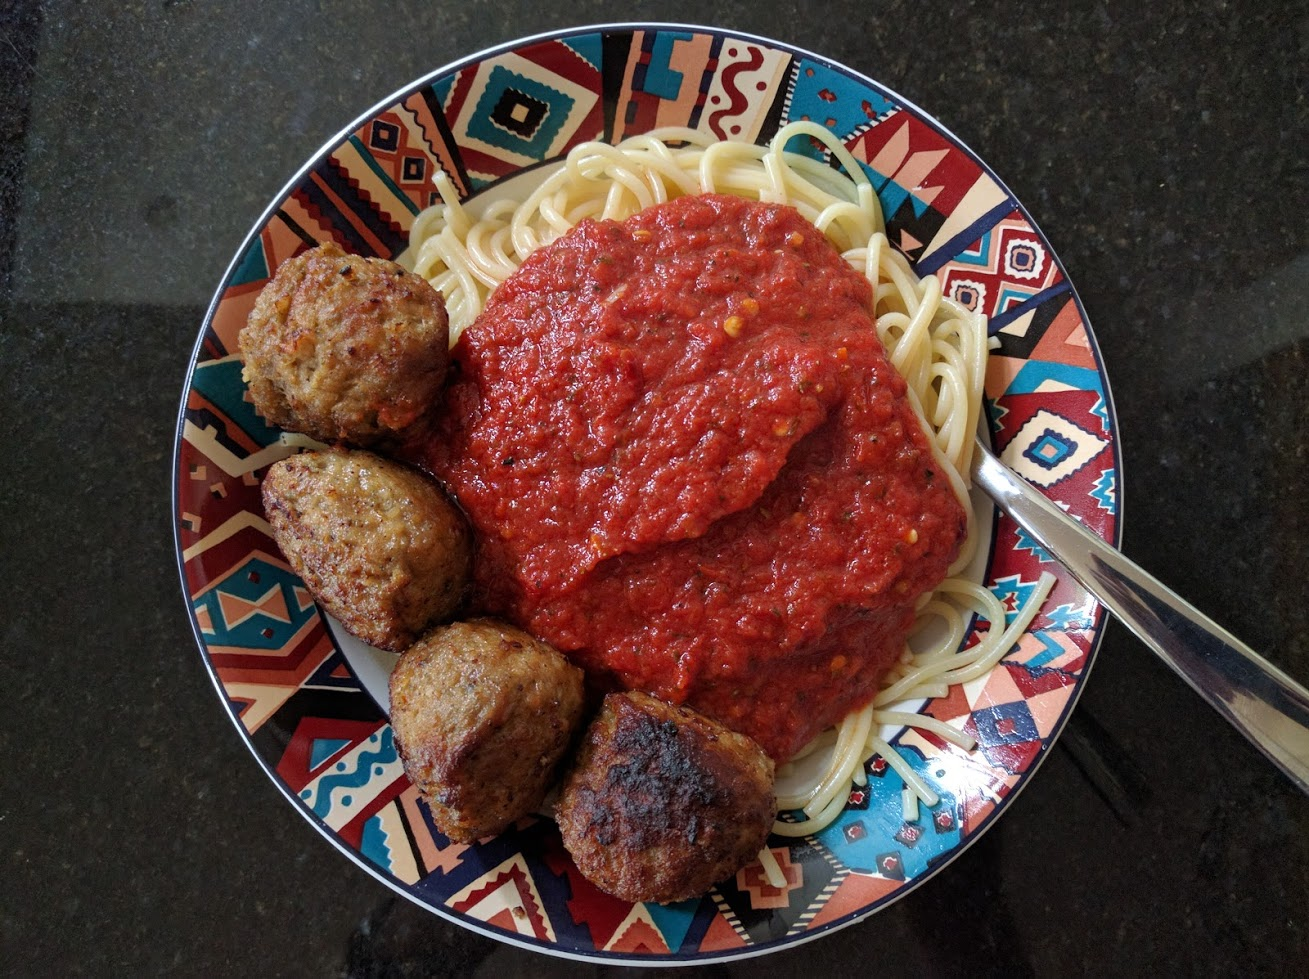meatballs: (570, 699, 755, 898), (238, 254, 439, 430), (388, 627, 567, 812), (264, 460, 452, 636)
plain spaghetti: (435, 117, 970, 341), (868, 244, 1009, 719)
